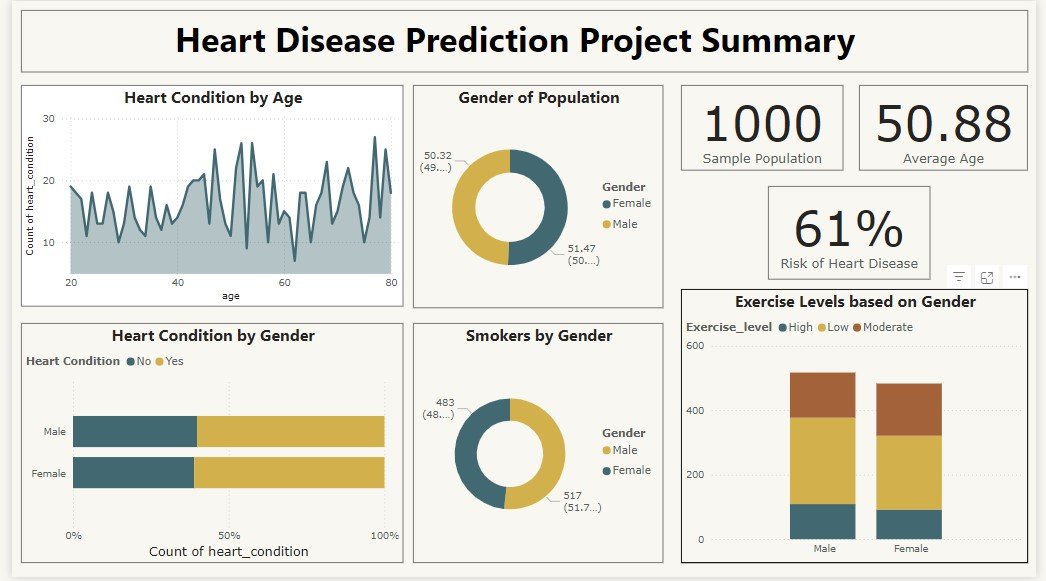

What the dashboard file says about the page in this screenshot:
{"tool":"powerbi","page":{"name":"Page 1","canvas":[1280,720],"ordinal":0},"visuals":[{"type":"card","fields":{"Values":["CountNonNull(Heart_disease_MLproject.gender)"]},"box":[836.3,105.6,202.9,107.2],"z":0},{"type":"card","fields":{"Values":["Avg(Heart_disease_MLproject.age)"]},"box":[1059,105.6,211.1,107.2],"z":1000},{"type":"donutChart","title":"Gender of Population","fields":{"Category":["Heart_disease_MLproject.gender"],"Y":["Avg(Heart_disease_MLproject.age)"]},"box":[501.4,105.6,313.4,278.8],"z":2000},{"type":"donutChart","title":"Smokers by Gender","fields":{"Category":["Heart_disease_MLproject.gender"],"Y":["CountNonNull(Heart_disease_MLproject.smoker)"]},"box":[501.4,402.5,313.4,300.2],"z":3000},{"type":"columnChart","title":"Exercise Levels based on Gender","fields":{"Category":["Heart_disease_MLproject.gender"],"Series":["Heart_disease_MLproject.exercise_level"],"Y":["CountNonNull(Heart_disease_MLproject.gender)"]},"box":[836.3,359.6,433.8,343.1],"z":4000},{"type":"hundredPercentStackedBarChart","title":"Heart Condition by Gender","fields":{"Category":["Heart_disease_MLproject.gender"],"Y":["CountNonNull(Heart_disease_MLproject.heart_condition)"],"Series":["Heart_disease_MLproject.heart_condition"]},"box":[11.5,402.5,478.4,300.2],"z":5000},{"type":"stackedAreaChart","title":"Heart Condition by Age","fields":{"Category":["Heart_disease_MLproject.age"],"Y":["CountNonNull(Heart_disease_MLproject.heart_condition)"]},"box":[11.5,105.6,478.4,277.1],"z":6000},{"type":"card","fields":{"Values":["Heart_disease_MLproject.Riskpercentage"]},"box":[945.2,230.9,202.9,117.1],"z":6001},{"type":"textbox","box":[11.5,11.5,1258.6,77.5],"z":6002}]}

Visuals, with their boxes in screenshot pixels (x1, y1, x2, y2), scaled from the page's 1280x720 canvas onto the 1046x581 screenshot:
card - CountNonNull(Heart_disease_MLproject.gender): 683 85 849 172
card - Avg(Heart_disease_MLproject.age): 865 85 1038 172
"Gender of Population" donutChart: 410 85 666 310
"Smokers by Gender" donutChart: 410 325 666 567
"Exercise Levels based on Gender" columnChart: 683 290 1038 567
"Heart Condition by Gender" hundredPercentStackedBarChart: 9 325 400 567
"Heart Condition by Age" stackedAreaChart: 9 85 400 309
card - Heart_disease_MLproject.Riskpercentage: 772 186 938 281
textbox: 9 9 1038 72
